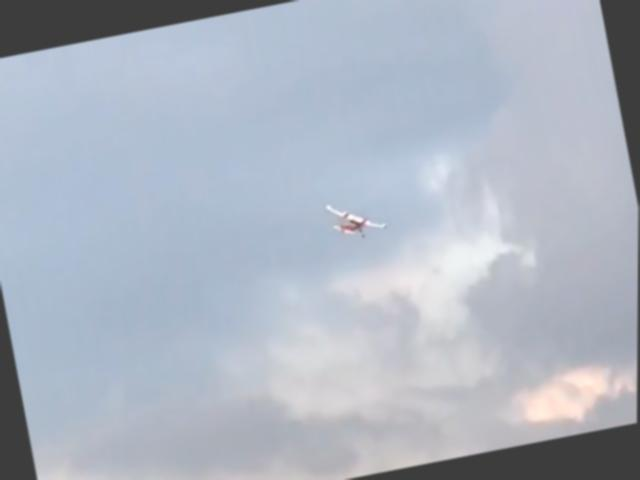plane: (323, 196, 387, 244)
